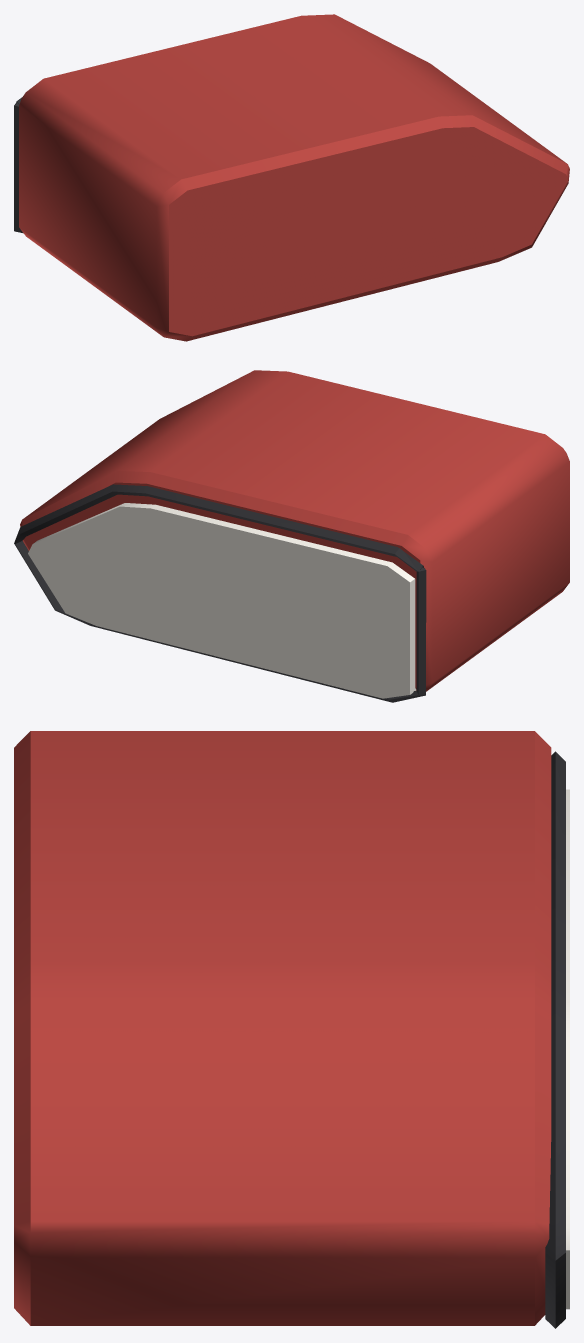
The model's file is triple.glb.
The picture shows the model from 3 angles, top to bottom: view 1: azimuth 30°, elevation 25°; view 2: azimuth 150°, elevation 25°; view 3: azimuth 270°, elevation 25°; orthographic projection. The views are drawn at different scales.
Visible parts, largest first — view 1: lod0; view 2: lod0; view 3: lod0.
Part boxes in pixels (box(x1,y1,x2,y2)): lod0: box(14, 14, 569, 341); lod0: box(14, 370, 569, 702); lod0: box(14, 731, 569, 1328).
Size of what is drawn, in the model's own units: 2.12 by 0.8136 by 1.35.
